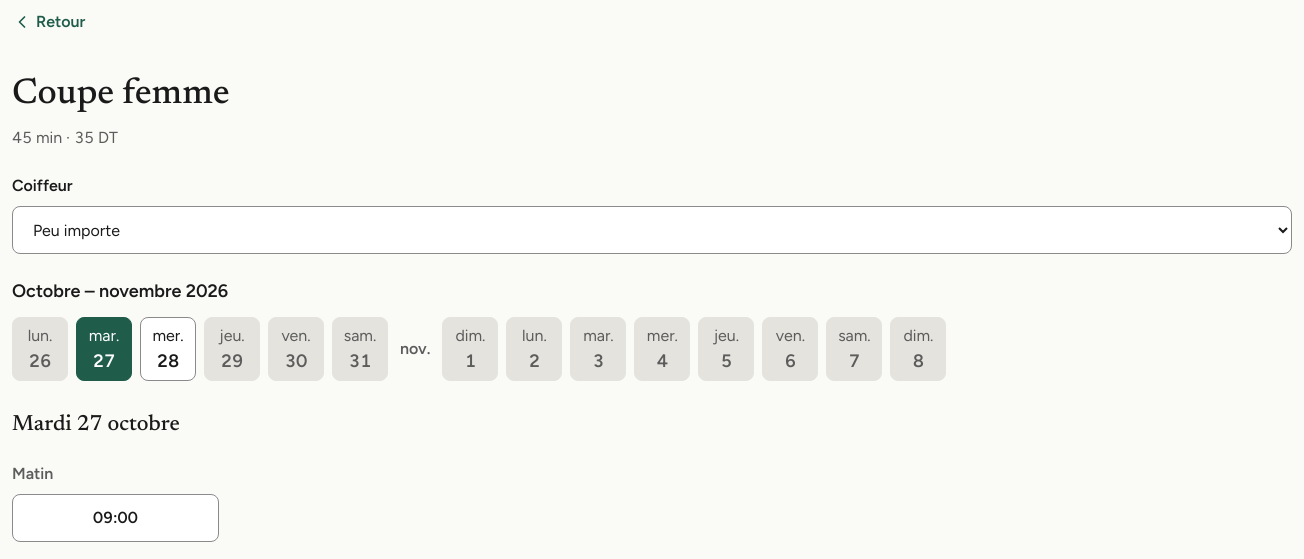
Test: EcranCreneaux › un seul jour affiché à la fois : choisir mercredi remplace mardi
The width and height of the screenshot is (1304, 559).
Expected: the heading "Mardi 27 octobre" is shown, [12,414,180,436]
Click the button with aria-label "Mercredi 28 octobre": (168, 349) [140,317,196,381]
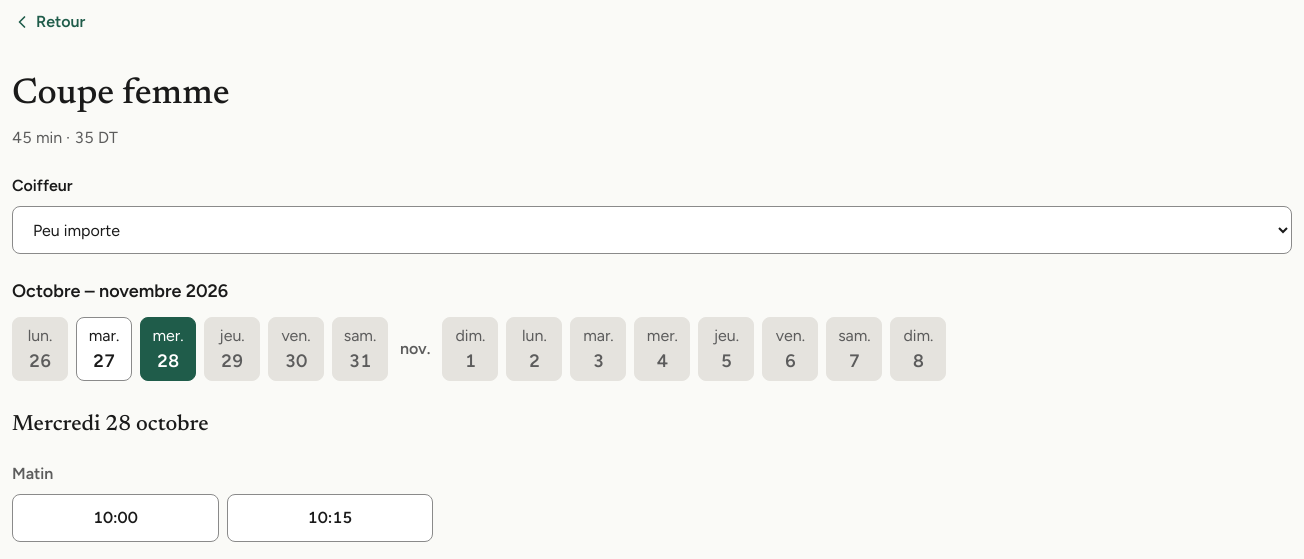
Result: the headings read "Mercredi 28 octobre", in this order at [12,414,208,436]
